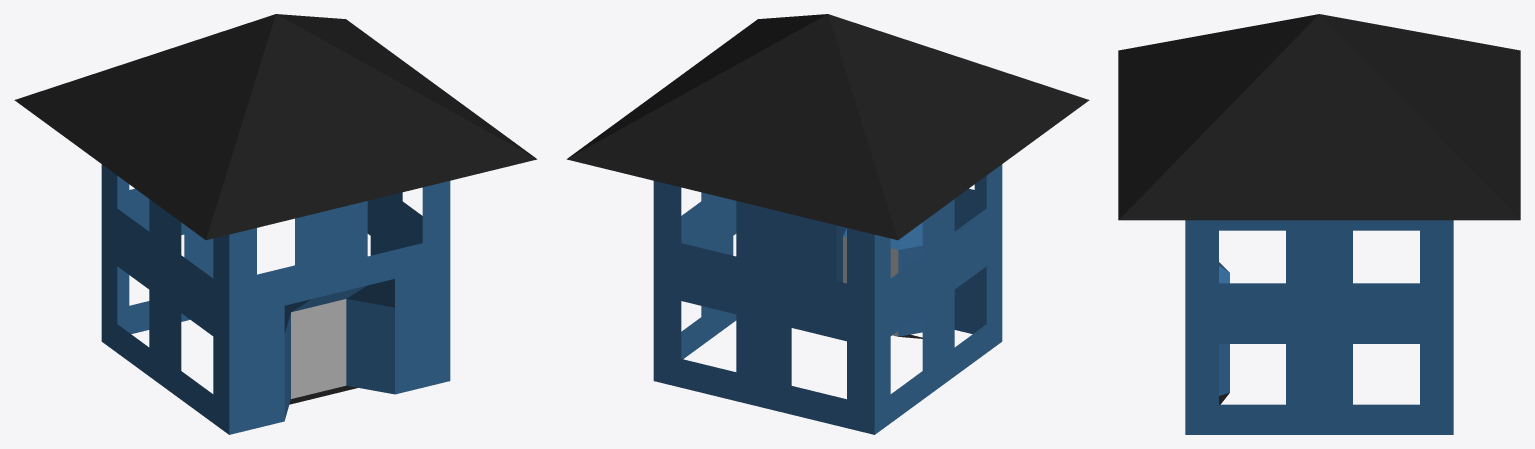
File: house.obj
The picture shows the model from 3 angles, left to right: view 1: azimuth 30°, elevation 25°; view 2: azimuth 150°, elevation 25°; view 3: azimuth 270°, elevation 25°; orthographic projection. The views are drawn at different scales.
Parts seen in each view (by area): view 1: Cube; view 2: Cube; view 3: Cube.
Boxes of the visible parts, x1,y1,x2,y2 form: Cube: [14, 14, 537, 434]; Cube: [566, 14, 1089, 434]; Cube: [1118, 14, 1520, 434].
Size of the model in its own units: 9 by 9 by 9.
